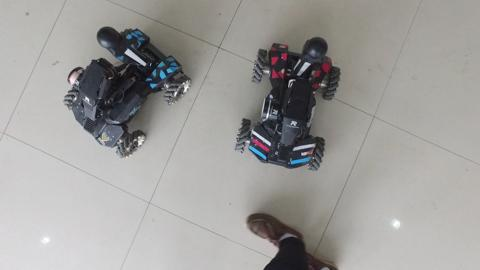chariot: (56, 21, 196, 165), (231, 31, 357, 179)
